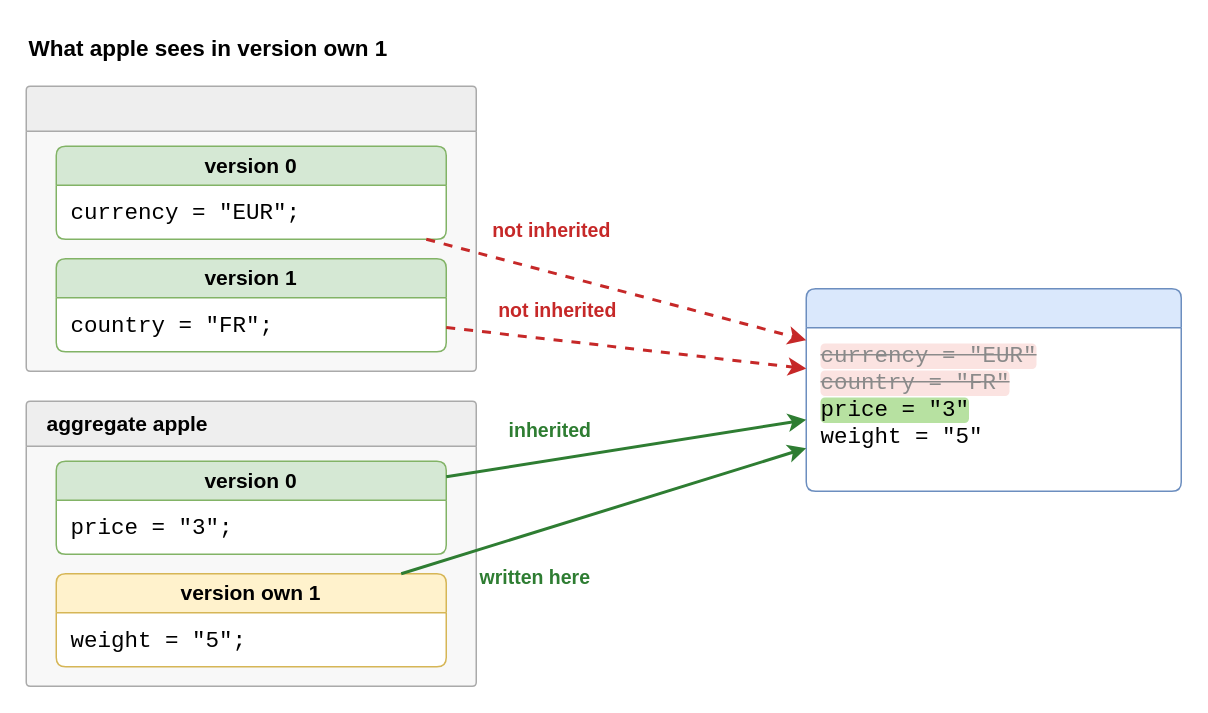
The diagram is 1208 pixels wide and 713 high, and some of its shapes have lost their labels. The box of each missing label's shape, as (x1, y1, x2, y2) in pixels:
apple, version 1 (compiled): (805, 287, 1181, 491)
root aggregate shop: (25, 85, 476, 371)
